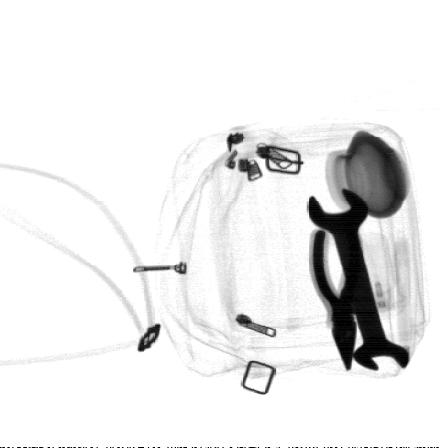Pliers: (312, 228, 364, 370)
Wrench: (302, 189, 412, 371)
